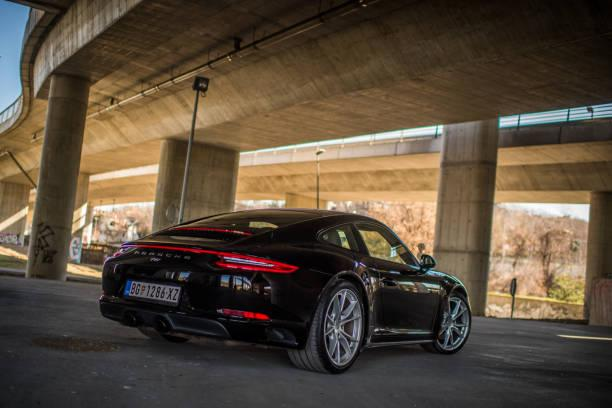porsche: (129, 247, 199, 262)
